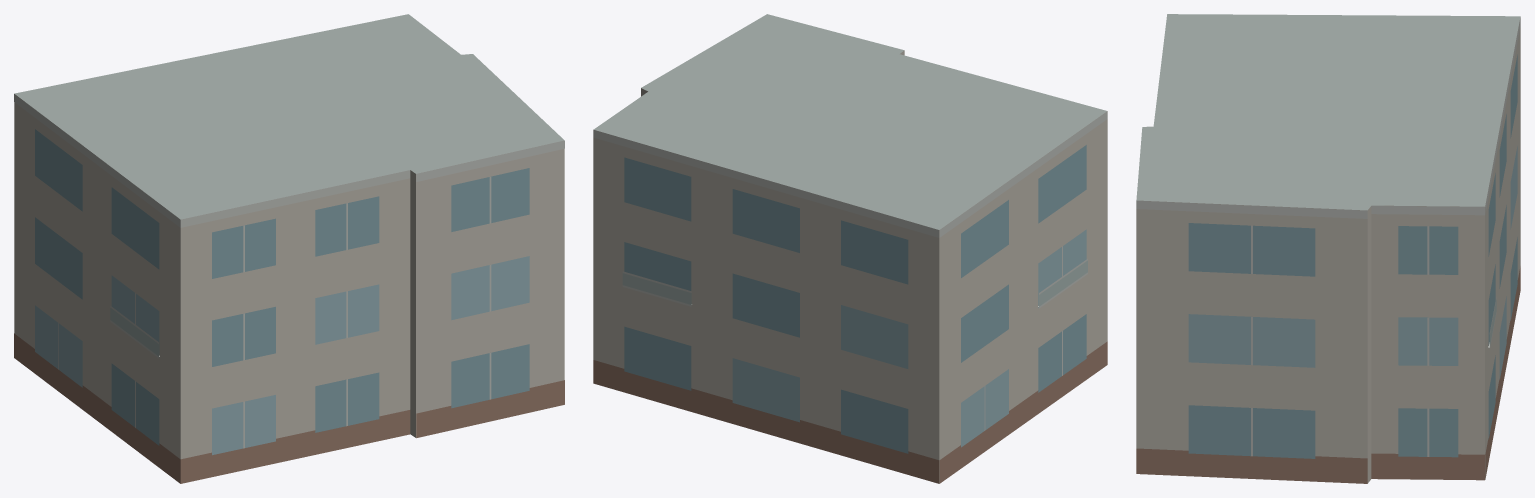
File: survey-upis-32577984.glb
The picture shows the model from 3 angles, left to right: view 1: azimuth 30°, elevation 25°; view 2: azimuth 150°, elevation 25°; view 3: azimuth 270°, elevation 25°; orthographic projection. The views are drawn at different scales.
Visible parts, largest first — view 1: survey-upis-32577984.tmp; view 2: survey-upis-32577984.tmp; view 3: survey-upis-32577984.tmp.
Part boxes in pixels (bbox=[...]): survey-upis-32577984.tmp: bbox=[14, 14, 564, 483]; survey-upis-32577984.tmp: bbox=[593, 14, 1107, 483]; survey-upis-32577984.tmp: bbox=[1136, 14, 1520, 483].
Bounding box in the file's own units: 12.05 × 7.8 × 9.94.
